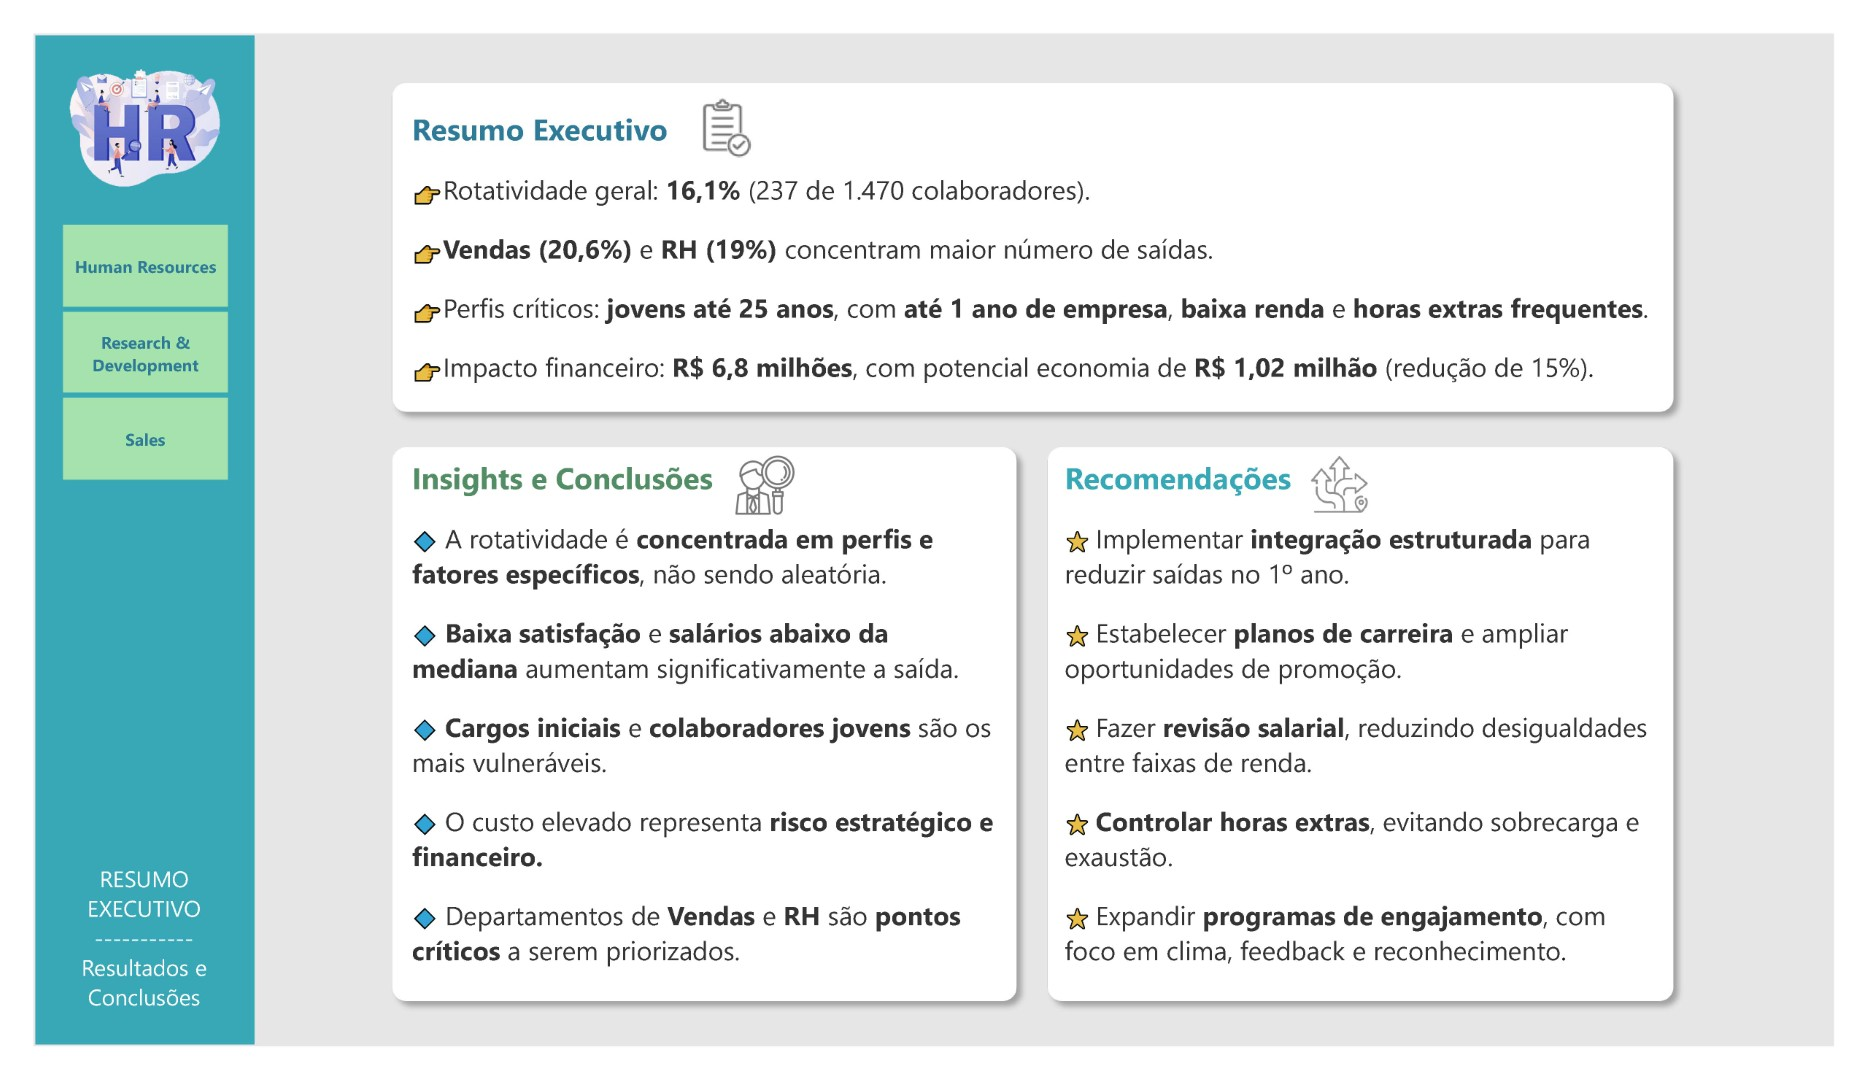

Layout of this report page (visuals, bound fields, positions):
{"tool":"powerbi","page":{"name":"Resultados e Conclusões","canvas":[1280,720],"ordinal":4},"visuals":[{"type":"shape","box":[712,284.6,462.9,412.3],"z":500},{"type":"shape","box":[245.6,25.7,929.3,251.8],"z":1000},{"type":"shape","box":[0,0,156.9,720.1],"z":2000},{"type":"slicer","fields":{"Values":["HR.departamento"]},"box":[0,134,157,185],"z":3000},{"type":"textbox","box":[0,585.5,157.3,116.4],"z":4000},{"type":"image","box":[20,0,118,134],"z":5000},{"type":"textbox","box":[264.2,47.9,894.7,210.1],"z":6000},{"type":"shape","box":[245.6,284.6,462.9,412.3],"z":7000},{"type":"textbox","box":[264.1,295.7,427.8,374.7],"z":8000},{"type":"textbox","box":[728,296.2,430.9,374.2],"z":9000},{"type":"image","box":[467.3,40.8,51.4,52.3],"z":10000},{"type":"image","box":[493,295.3,53.2,51.4],"z":11000},{"type":"image","box":[901.8,294.4,53.2,52.3],"z":12000}]}

Visuals, with their boxes in screenshot pixels (x1, y1, x2, y2), scaled from the page's 1280x720 canvas onto the 1868x1080 screenshot:
shape: 1039/427/1715/1045
shape: 358/39/1715/416
shape: 0/0/229/1079
slicer - HR.departamento: 0/201/229/478
textbox: 0/878/230/1053
image: 29/0/201/201
textbox: 386/72/1691/387
shape: 358/427/1034/1045
textbox: 385/444/1010/1006
textbox: 1062/444/1691/1006
image: 682/61/757/140
image: 719/443/797/520
image: 1316/442/1394/520
